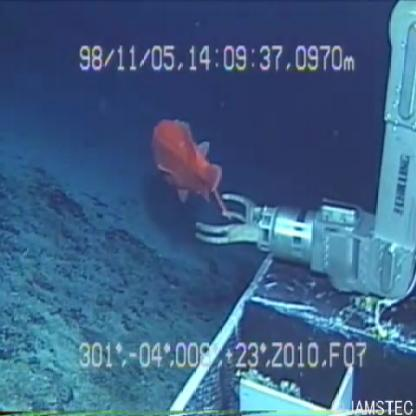Bio: (145, 114, 231, 216)
Rov: (192, 1, 416, 408)
